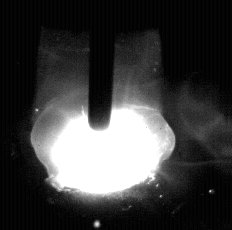arame: (89, 0, 113, 130)
poca: (29, 0, 176, 230)
